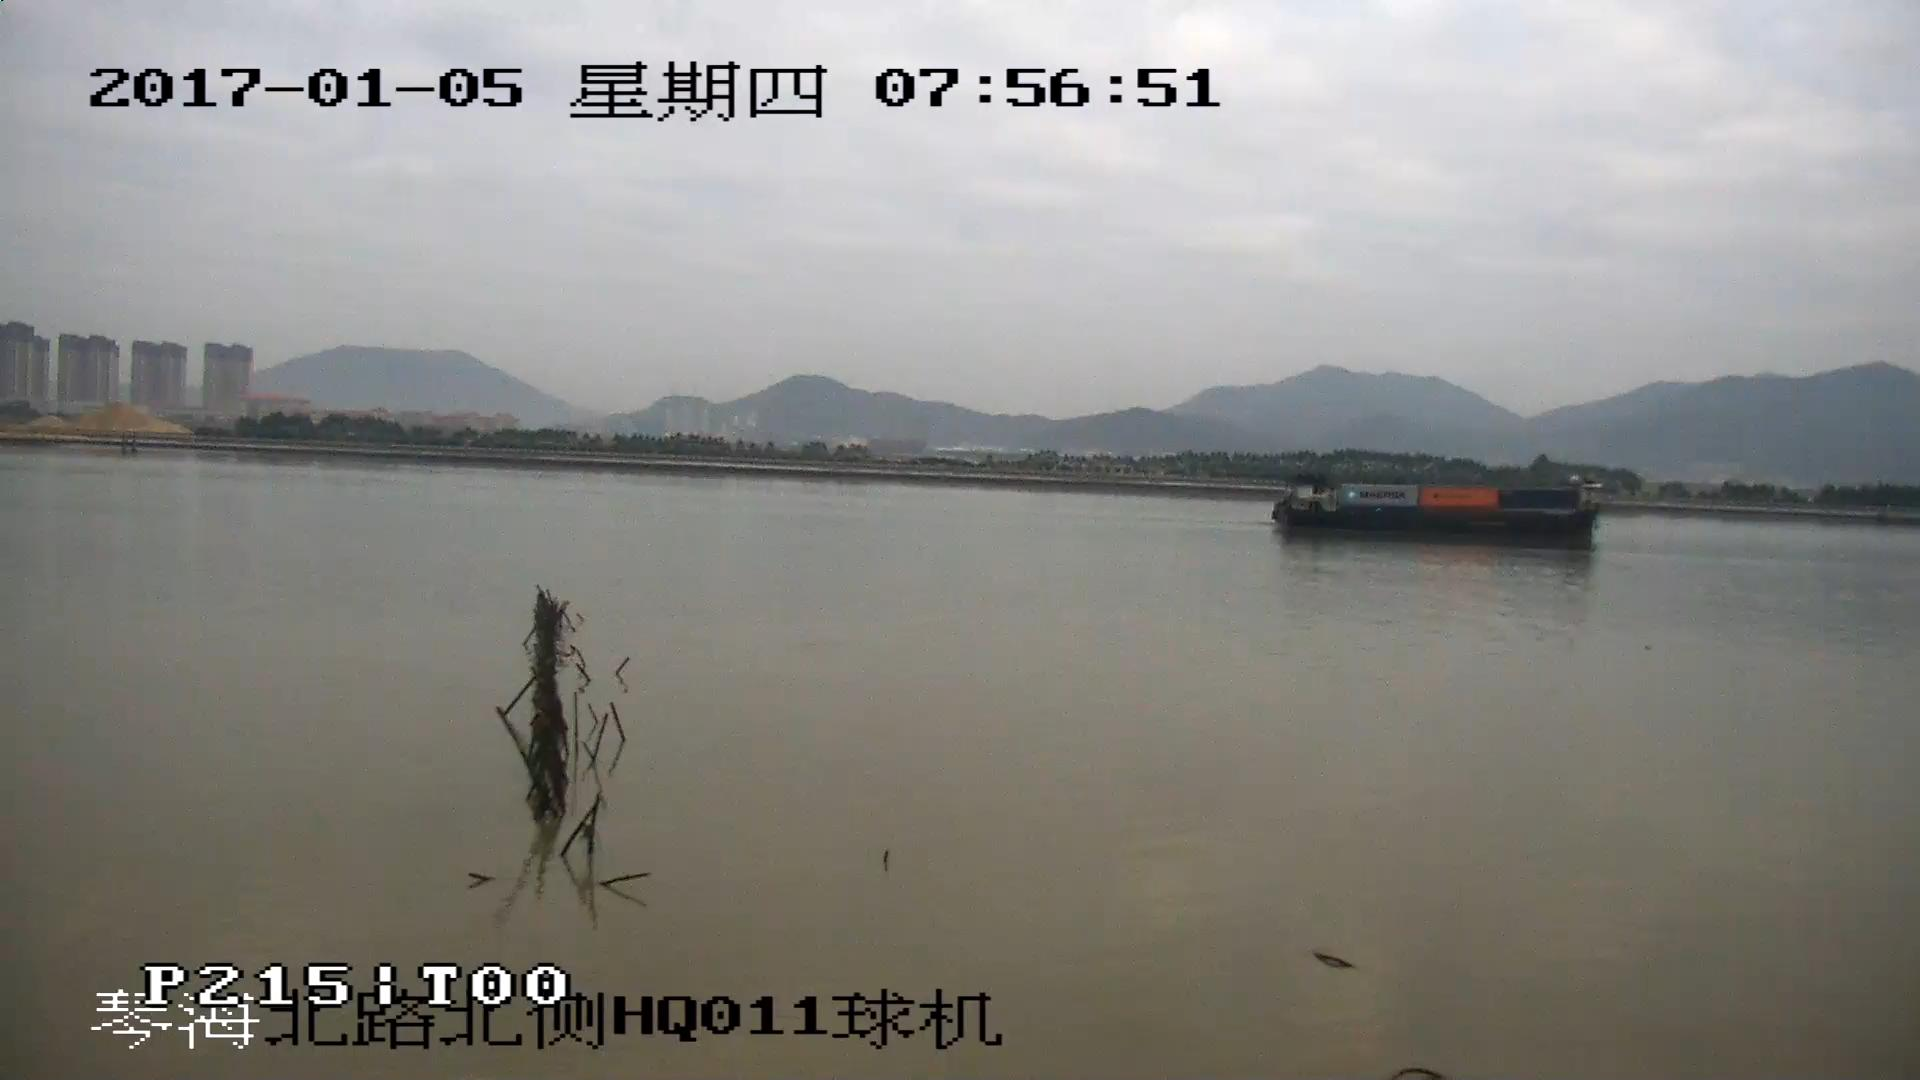container ship: (1269, 482, 1603, 547)
